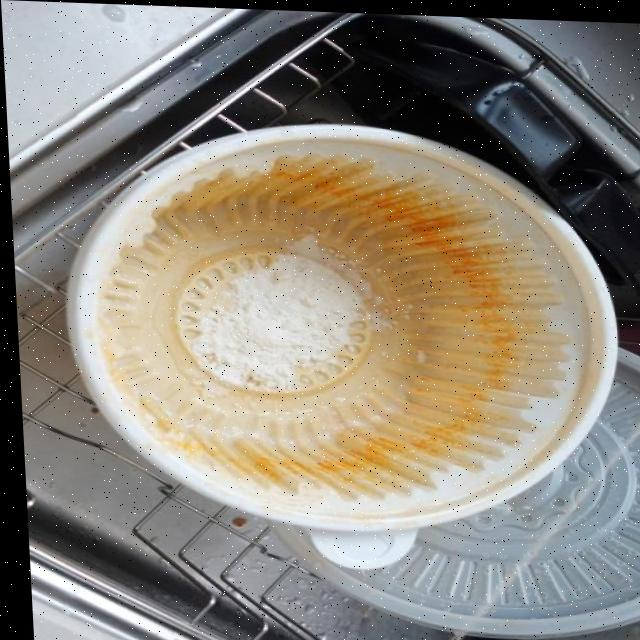disposable: (30, 73, 636, 600)
